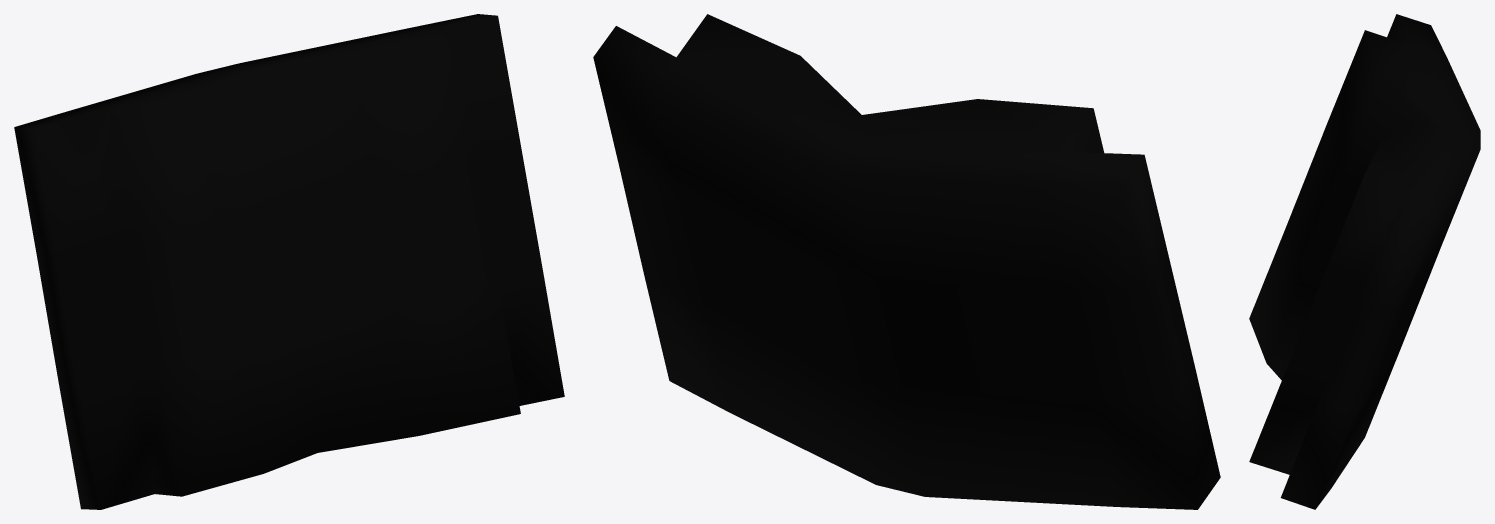
3 views of the same model, side by side, from view 1: azimuth 30°, elevation 25°; view 2: azimuth 150°, elevation 25°; view 3: azimuth 270°, elevation 25° (orthographic). The views are drawn at different scales.
Parts seen in each view (by area): view 1: T1L1M004_15; view 2: T1L1M004_15; view 3: T1L1M004_15.
Part boxes in pixels (bbox=[...]): T1L1M004_15: bbox=[14, 14, 564, 509]; T1L1M004_15: bbox=[593, 14, 1220, 509]; T1L1M004_15: bbox=[1249, 14, 1480, 509].
Bounding box in the file's own units: 0.5479 × 0.4258 × 0.2734.
